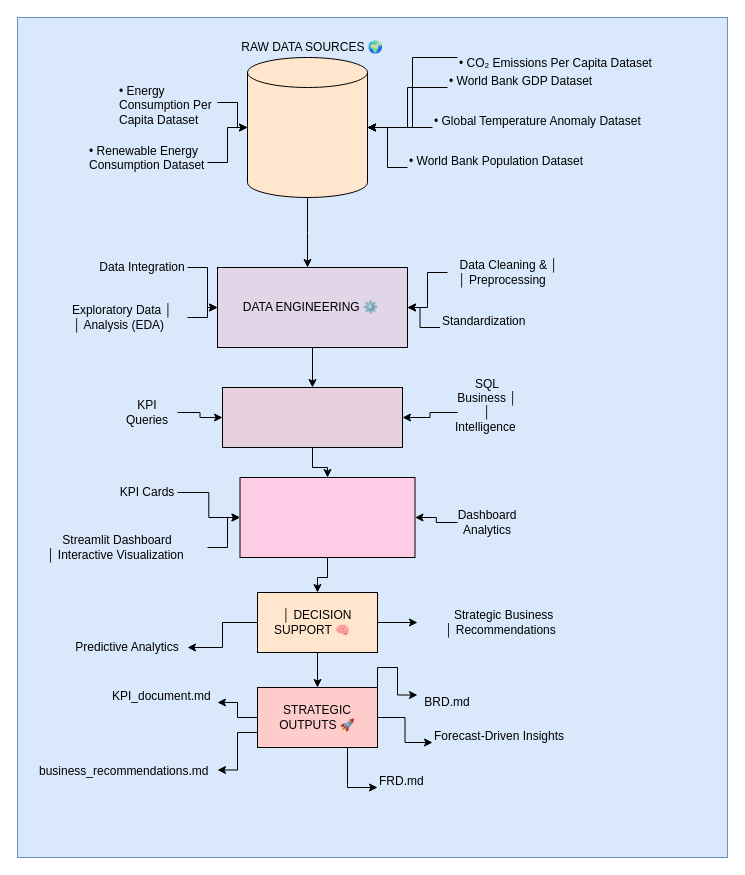
The diagram is 745 pixels wide and 875 high, and some of its shapes have lost their labels. Here are the shapes that lost their labels. From the top down, the centre of each, then its label:
the point at 312,417: ANALYTICS LAYER 📊
the point at 327,517: INTELLIGENCE LAYER 🤖
